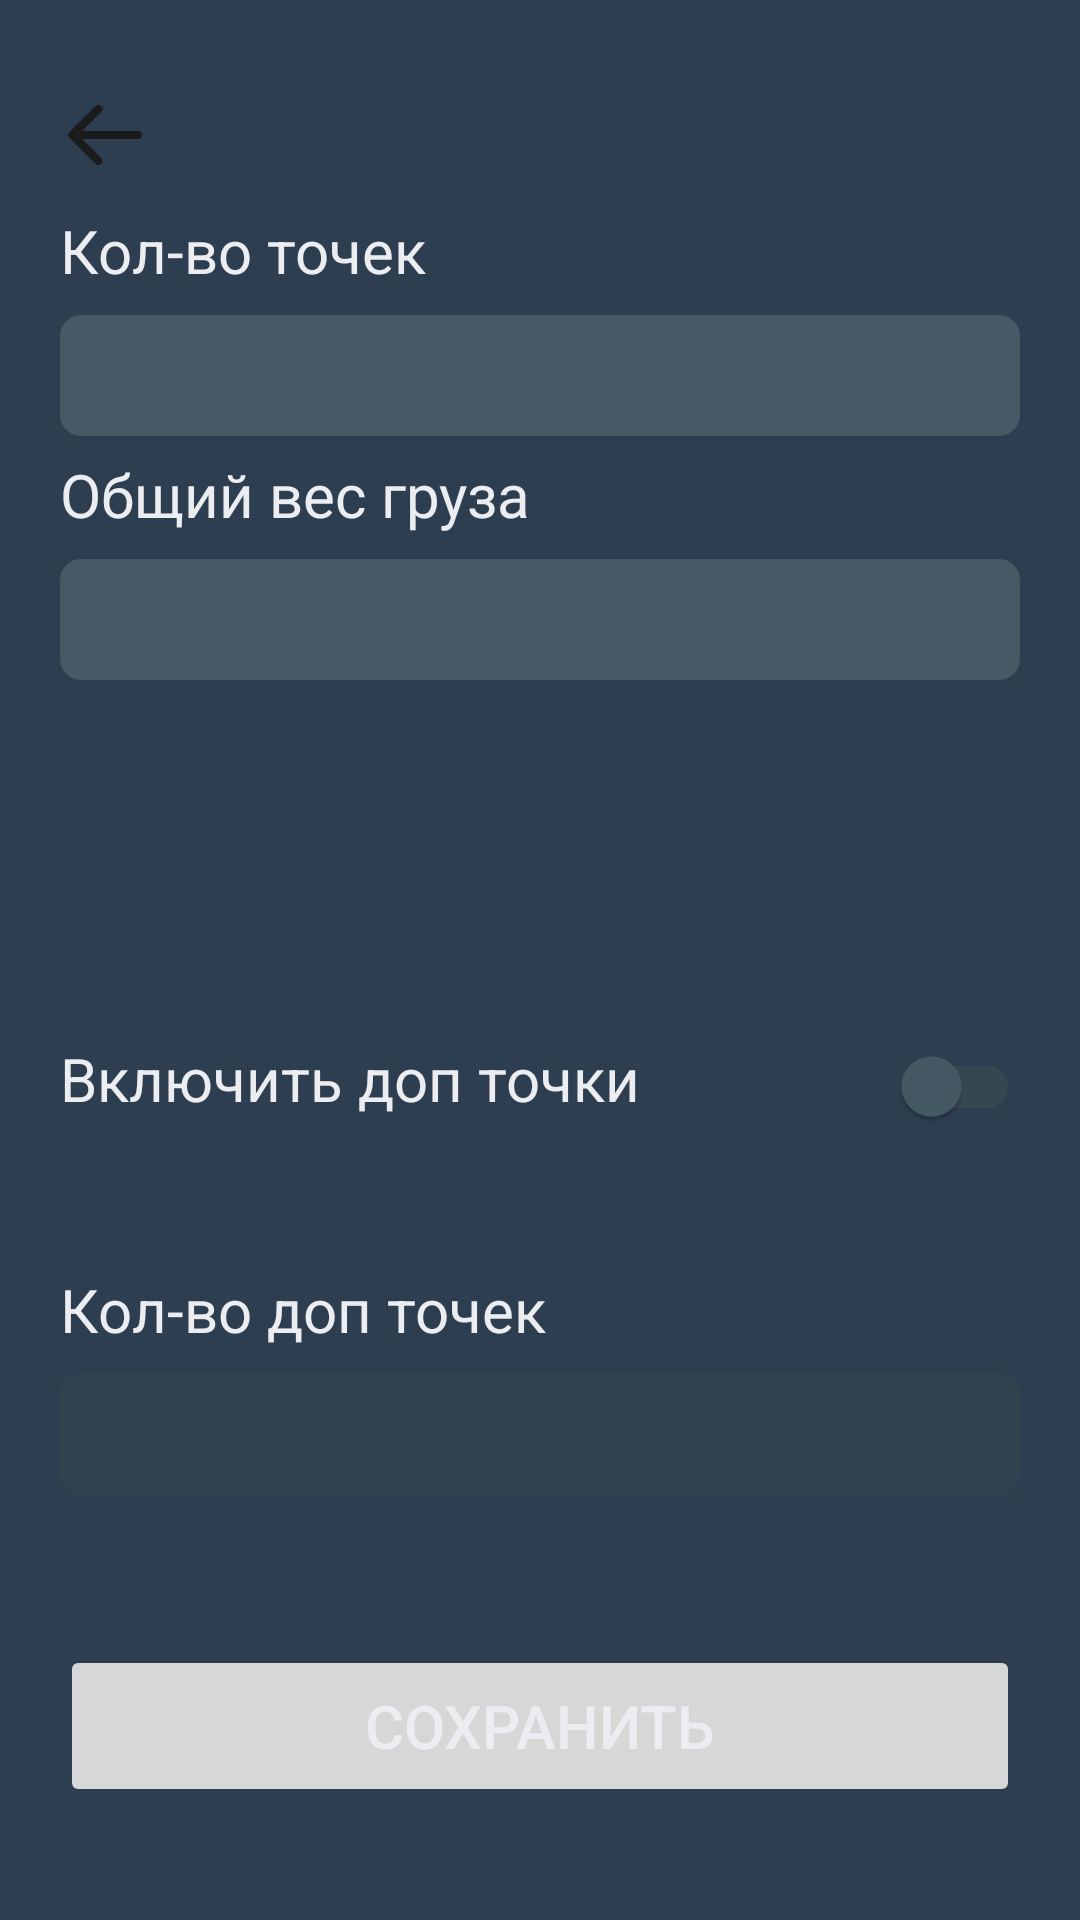

Screen size 1080 × 1920. Icon name, then its center in pixels as (x=x, y=y):
navbar left: (x=105, y=135)
